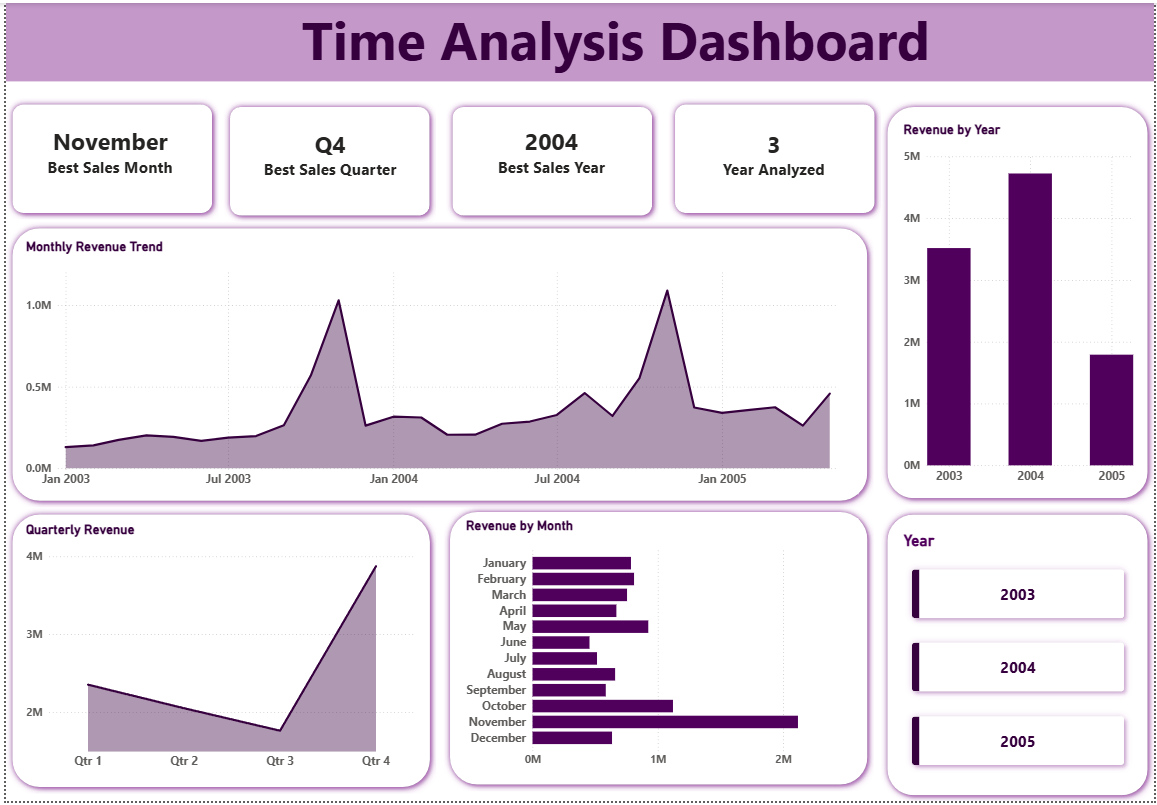

Layout of this report page (visuals, bound fields, positions):
{"tool":"powerbi","page":{"name":"Time Analysis Dashboard","canvas":[1582,1100],"ordinal":4},"visuals":[{"type":"shape","box":[0,131.1,292.9,167.4],"z":0},{"type":"shape","box":[300.3,134.9,292.9,167.4],"z":1000},{"type":"shape","box":[606.3,134.9,292.9,167.4],"z":2000},{"type":"shape","box":[912.2,131.1,292.9,167.4],"z":3000},{"type":"textbox","box":[22.8,163.4,242.4,101],"z":4000},{"type":"textbox","box":[936.9,167.2,242.4,101],"z":5000},{"type":"textbox","box":[631,163.4,242.4,101],"z":6000},{"type":"textbox","box":[325,167.2,242.4,101],"z":7000},{"type":"shape","box":[0,302.2,1195.4,393.4],"z":8000},{"type":"lineChart","title":"Monthly Revenue Trend","fields":{"Category":["Orders.order_date.Variation.Date Hierarchy.Year","Orders.order_date.Variation.Date Hierarchy.Month"],"Y":["Measures (2).Total Revenue"]},"box":[22.8,325,1151.7,351.6],"z":9000},{"type":"shape","box":[0,695.6,593,393.4],"z":9001},{"type":"lineChart","title":"Quarterly Revenue","fields":{"Category":["Orders.order_date.Variation.Date Hierarchy.Quarter"],"Y":["Measures (2).Total Revenue"]},"box":[22.8,714.6,545.4,351.6],"z":9002},{"type":"shape","box":[1204.9,134.9,376.3,556.8],"z":9003},{"type":"columnChart","title":"Revenue by Year","fields":{"Y":["Measures (2).Total Revenue"],"Category":["Orders.order_date.Variation.Date Hierarchy.Year"]},"box":[1231.5,163.4,326.9,509.3],"z":9004},{"type":"shape","box":[602.5,691.8,593,393.4],"z":9005},{"type":"barChart","title":"Revenue by Month","fields":{"Category":["Orders.order_date.Variation.Date Hierarchy.Month"],"Y":["Measures (2).Total Revenue"]},"box":[629.1,708.9,545.4,353.5],"z":9006},{"type":"shape","box":[1204.9,695.6,376.3,404.8],"z":9007},{"type":"advancedSlicerVisual","fields":{"Values":["Orders.order_date.Variation.Date Hierarchy.Year"]},"box":[1231.5,727.9,326.9,340.2],"z":9008},{"type":"shape","title":"Time Analysis Dashboard","box":[0,0,1680,108.3],"z":9009}]}

Visuals, with their boxes in screenshot pixels (x1, y1, x2, y2), scaled from the page's 1582x1100 canvas onto the 1157x805 screenshot:
shape: 0 96 214 218
shape: 220 99 434 221
shape: 443 99 658 221
shape: 667 96 881 218
textbox: 17 120 194 193
textbox: 685 122 862 196
textbox: 461 120 639 193
textbox: 238 122 415 196
shape: 0 221 874 509
"Monthly Revenue Trend" lineChart: 17 238 859 495
shape: 0 509 434 797
"Quarterly Revenue" lineChart: 17 523 416 780
shape: 881 99 1156 506
"Revenue by Year" columnChart: 901 120 1140 492
shape: 441 506 874 794
"Revenue by Month" barChart: 460 519 859 777
shape: 881 509 1156 804
advancedSlicerVisual - Orders.order_date.Variation.Date Hierarchy.Year: 901 533 1140 782
"Time Analysis Dashboard" shape: 0 0 1156 79
